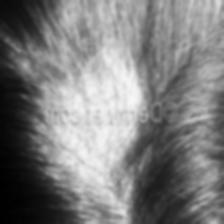Toxin: (66, 126, 134, 195), (61, 54, 142, 102)
